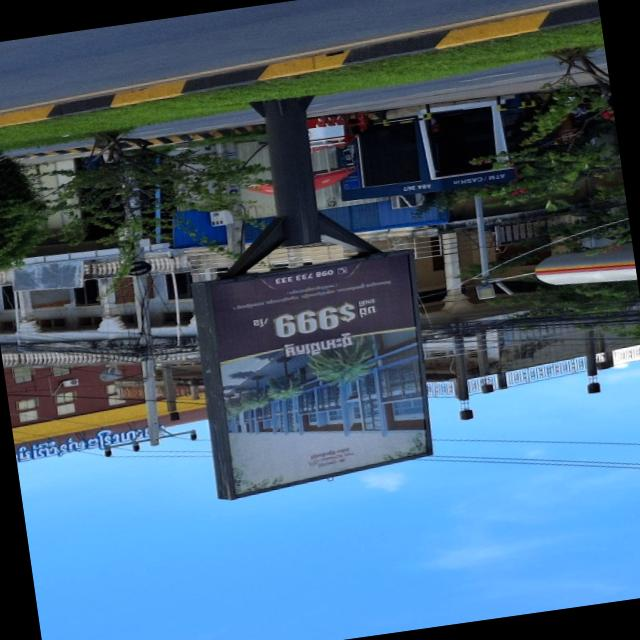Yolov11_80vkh: (270, 326, 366, 367), (231, 312, 274, 334)
